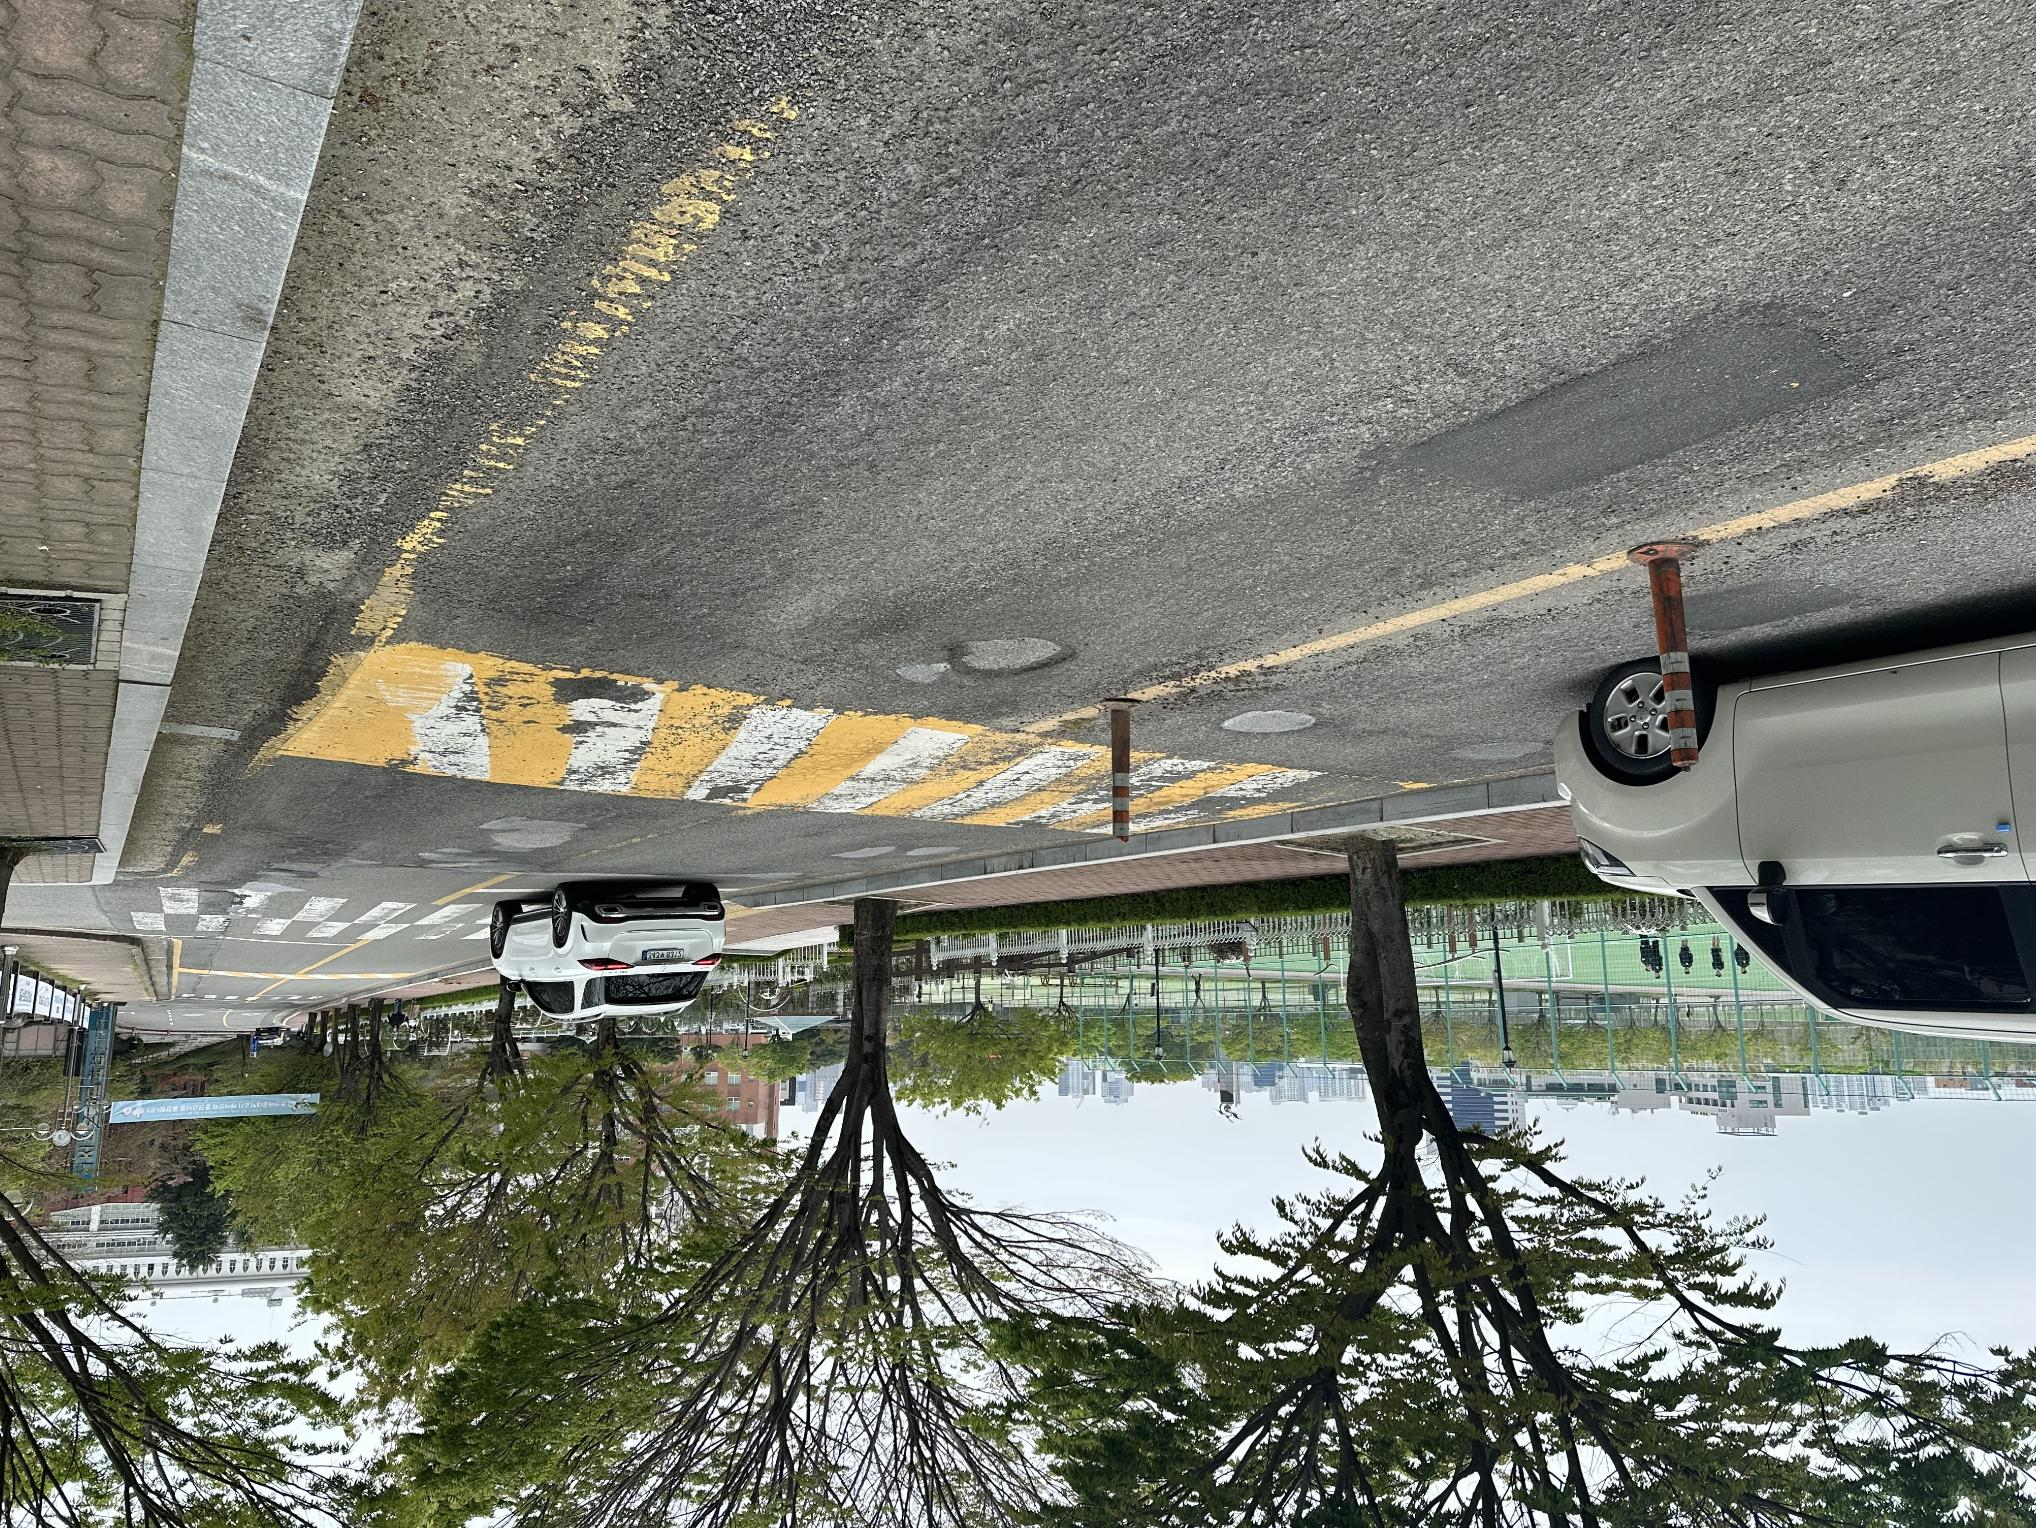pothole: (947, 621, 1077, 692)
